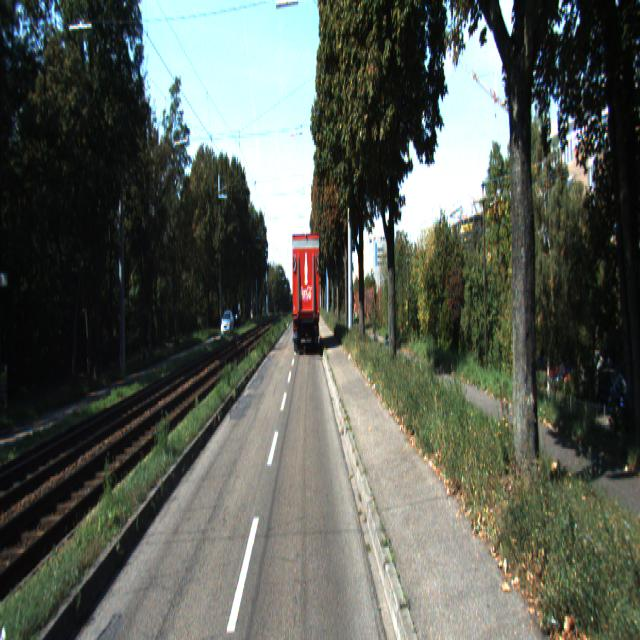Car: (290, 232, 321, 359), (220, 309, 234, 338)
